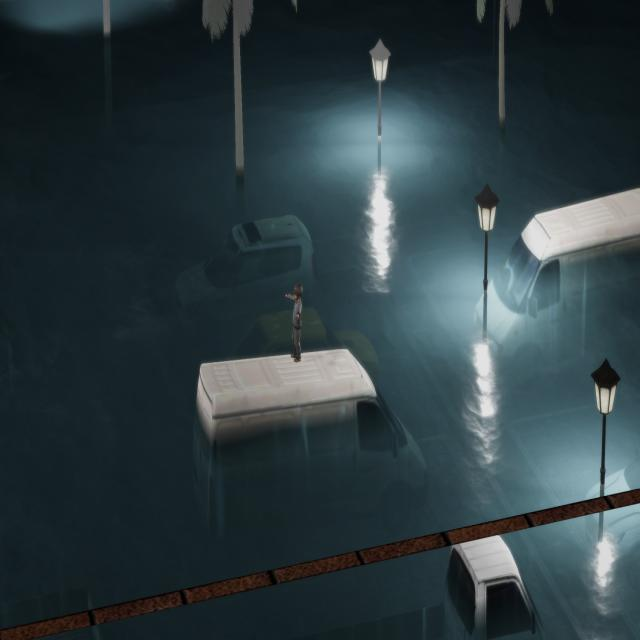Human: (280, 279, 307, 366)
